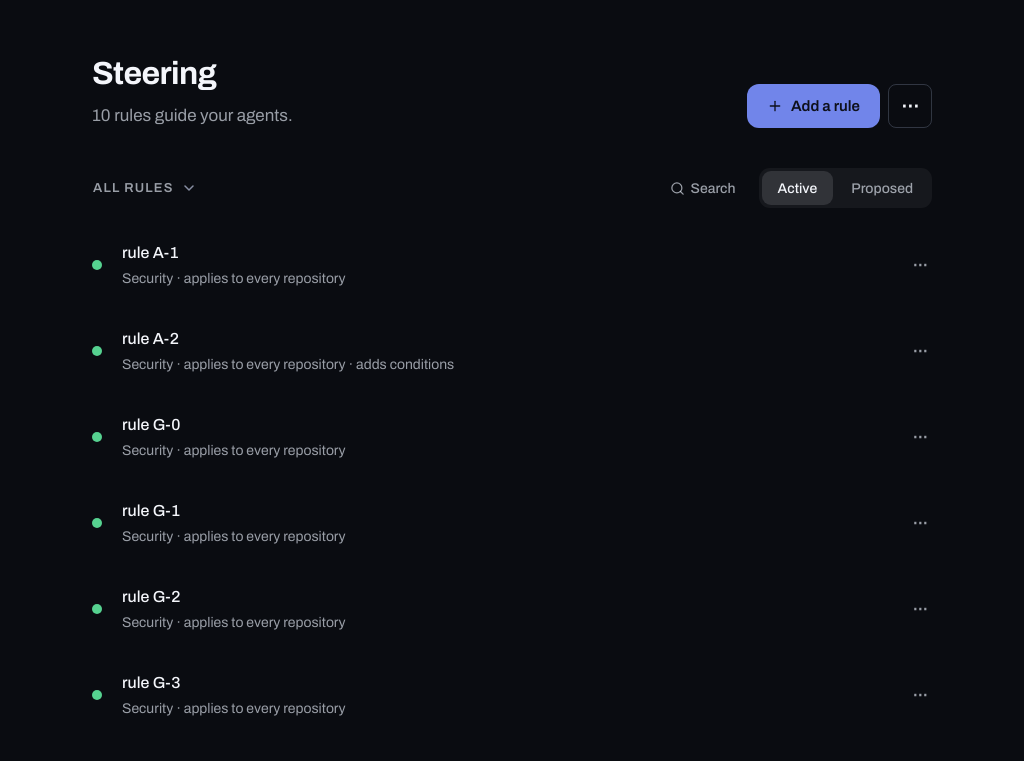
Test: codex r1 fixes › #5 closing the assistant keeps its draft; reopening shows it again
This screenshot has width=1024, height=761.
Click the button with test id "steer-more-button": (910, 106) 888,84 -> 932,128
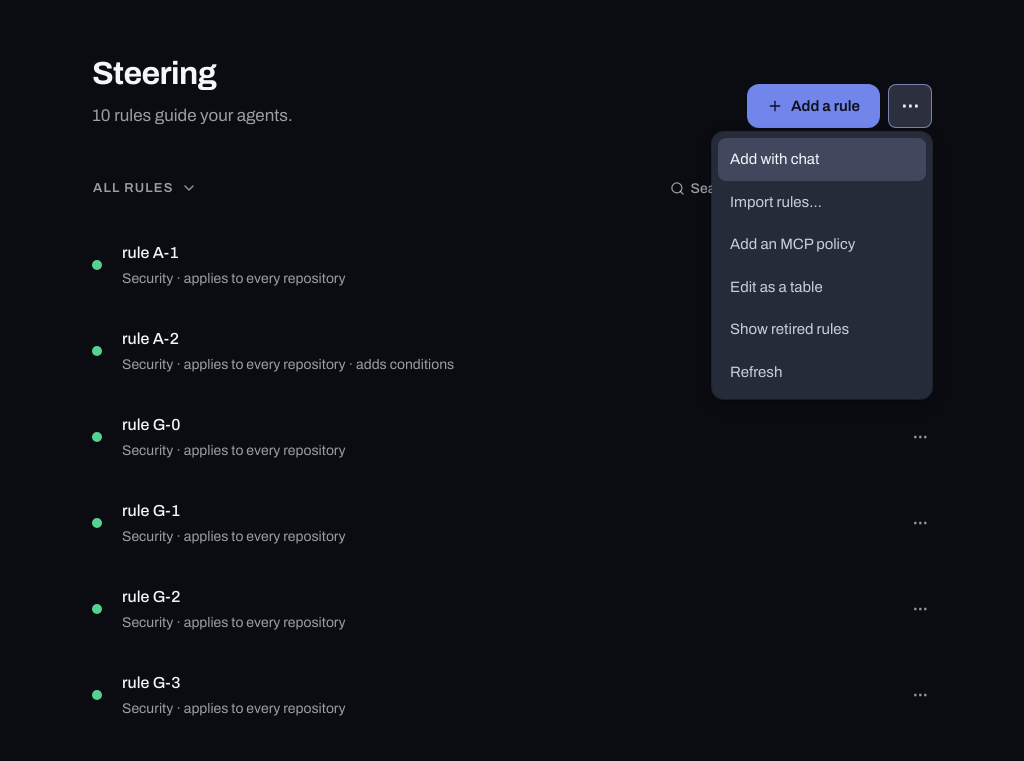
Click the menu item with test id "steer-chat": (822, 160) 718,138 -> 926,181
(page scrolled)
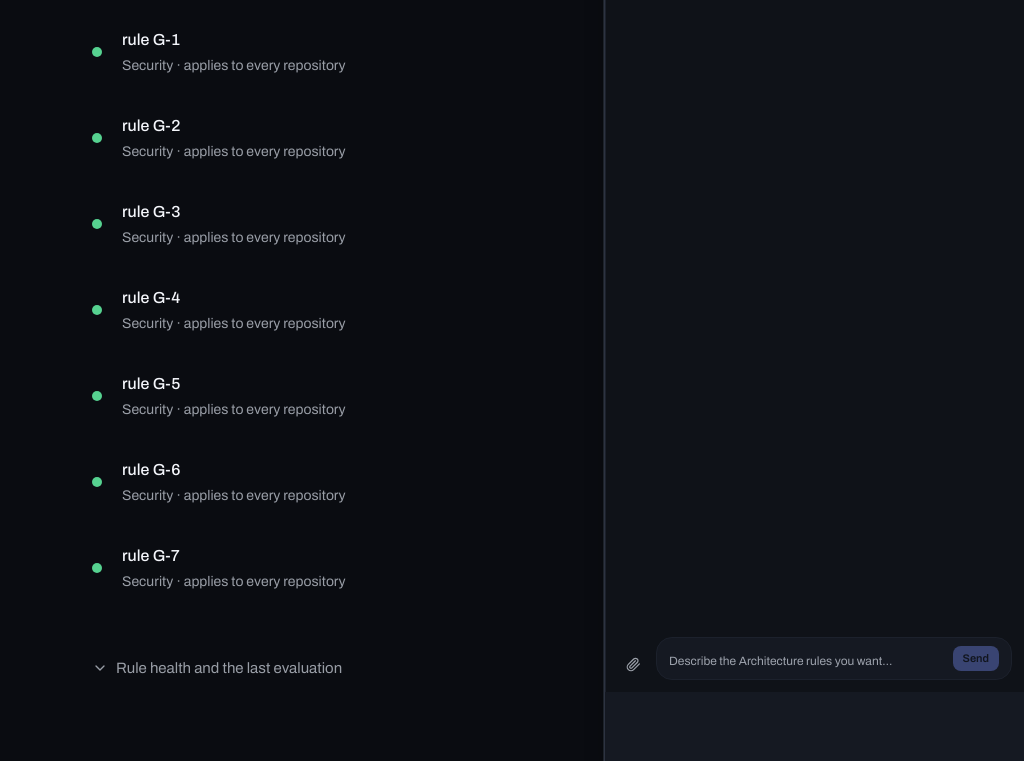
In the text box with test id "assist-input": (807, 661) 669,651 -> 944,671, type "keep this draft"
(page scrolled)
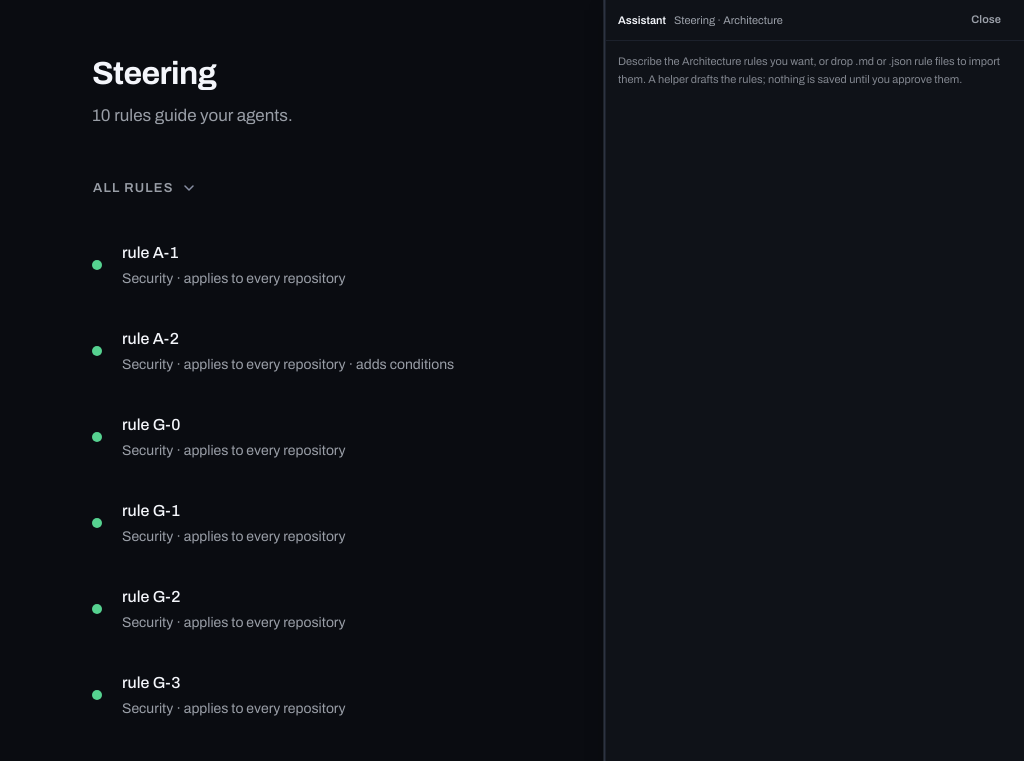
Click the button with test id "assist-dock-toggle": (986, 20) 960,8 -> 1012,32
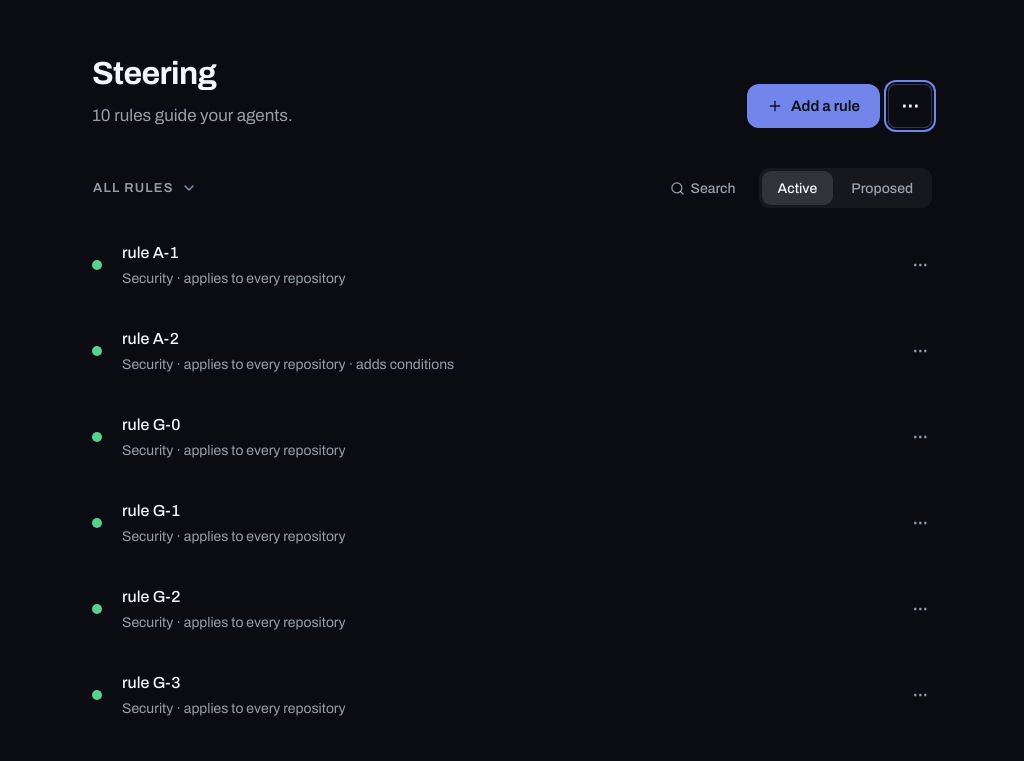
Click the button with test id "steer-more-button": (910, 106) 888,84 -> 932,128
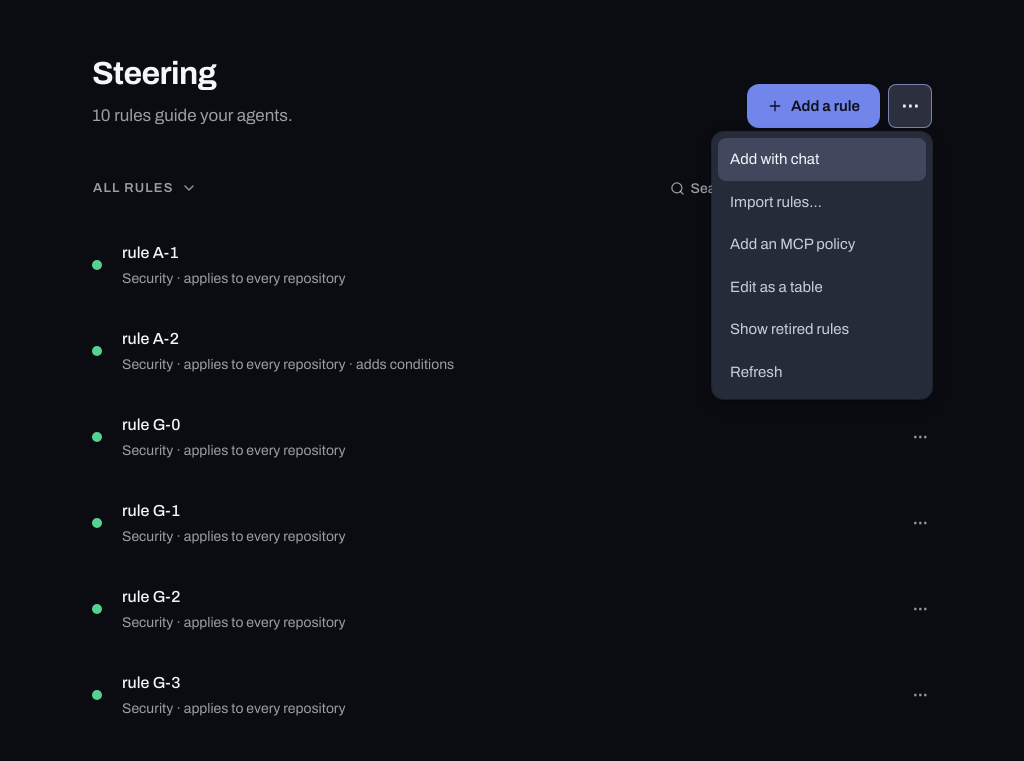
Click the menu item with test id "steer-chat": (822, 160) 718,138 -> 926,181
(page scrolled)
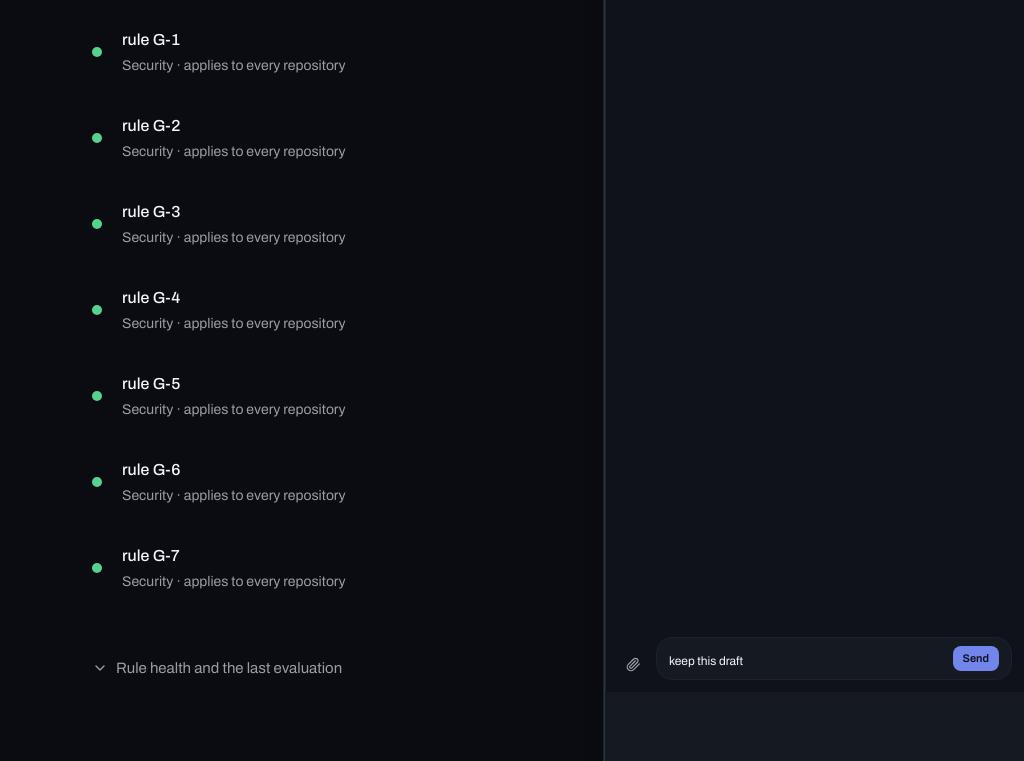
expect the text box with test id "assist-input" holds "keep this draft": met, box 669,651 -> 944,671
